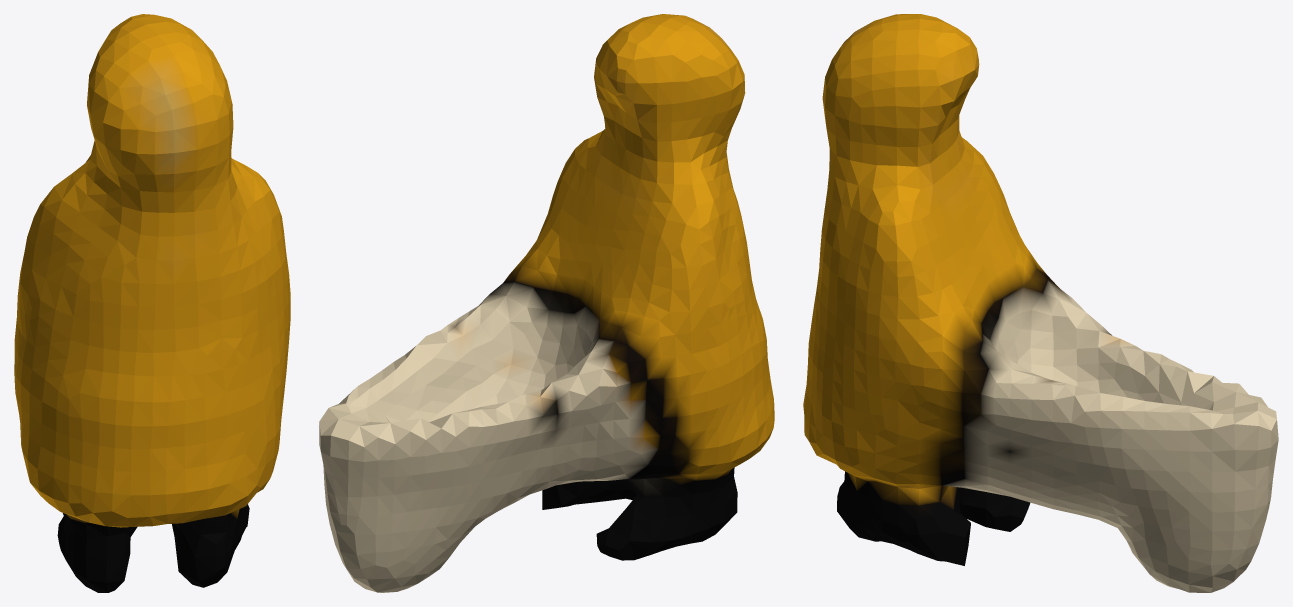
The model's file is Farmer.glb.
3 views of the same model, side by side, from view 1: azimuth 30°, elevation 25°; view 2: azimuth 150°, elevation 25°; view 3: azimuth 270°, elevation 25° (orthographic). The views are drawn at different scales.
Visible parts, largest first — view 1: Farmer; view 2: Farmer; view 3: Farmer.
Part boxes in pixels (x1,y1,x2,y2): Farmer: (14,14,290,592); Farmer: (319,14,774,592); Farmer: (803,14,1278,592).
Size of the model in its own units: 1.11 by 1.92 by 1.62.
